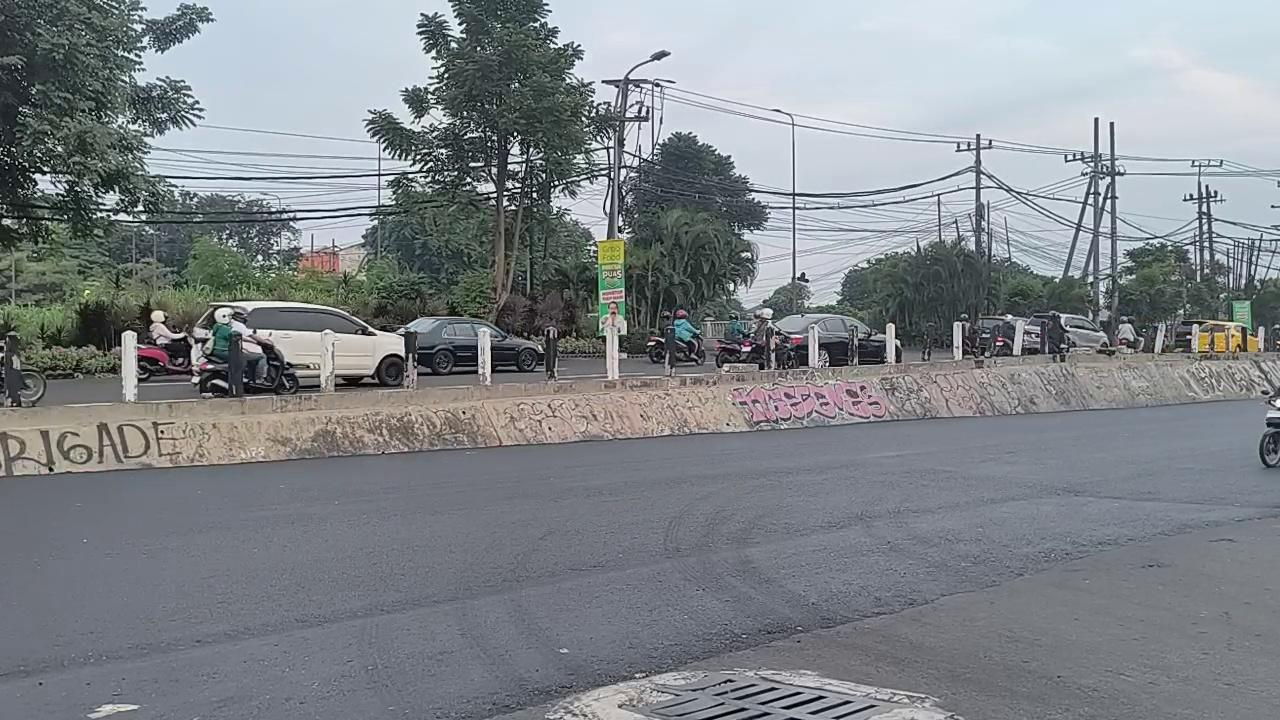Helmet: (206, 307, 269, 382), (148, 310, 187, 363), (674, 309, 700, 356), (725, 312, 750, 342)
Motor: (243, 344, 299, 394), (137, 340, 192, 381), (1259, 392, 1279, 467), (715, 340, 752, 367), (19, 369, 46, 406), (674, 336, 705, 364), (774, 333, 797, 368), (989, 334, 1012, 356)
